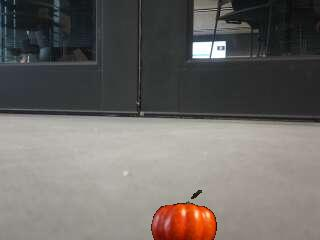Pumpkin: (147, 188, 221, 240)
